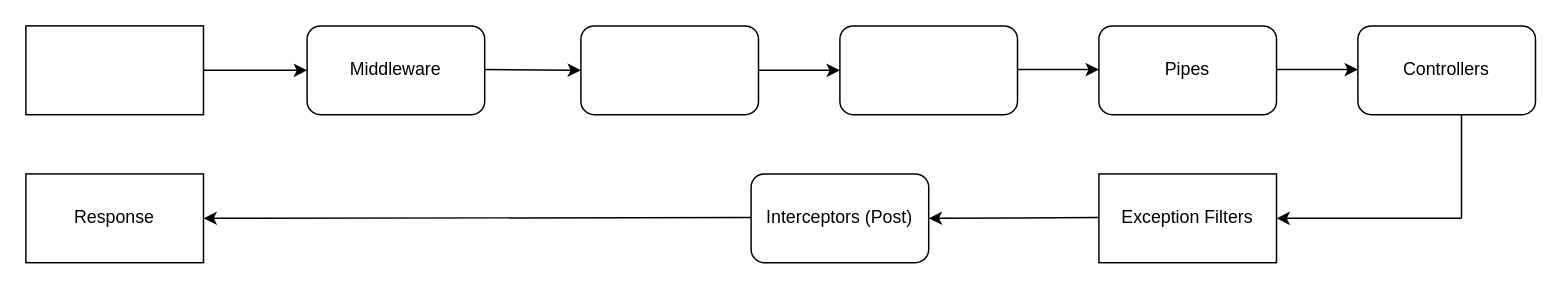
Some shapes in this 1561 by 289 pixel diagram are drawn without their labels. The centre of each missing label's shape, as x and y in pixels:
"Guards" goes at point (668, 69).
"Interceptors (Pre)" goes at point (928, 69).
"Request" goes at point (114, 69).
